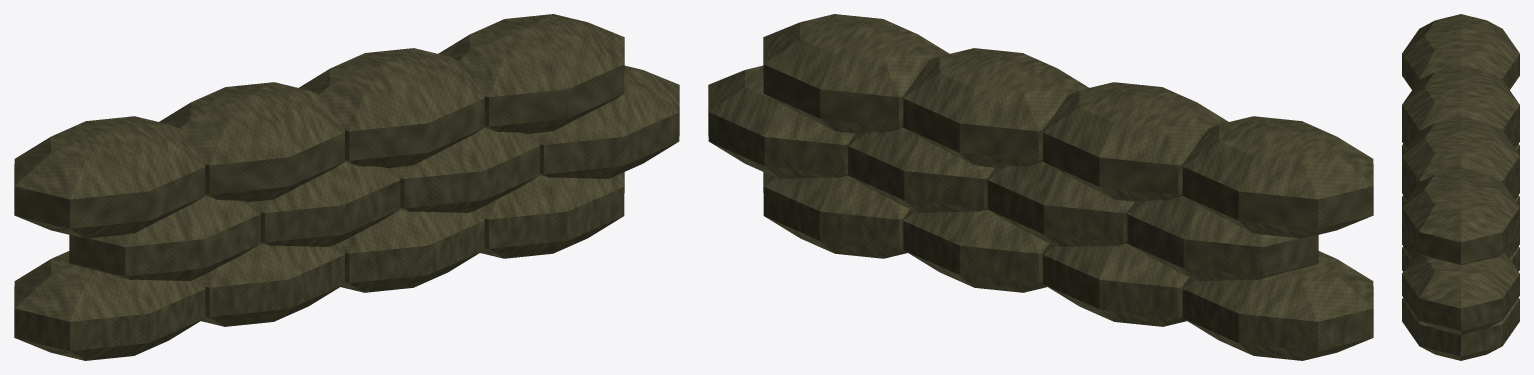
Rendered from Sandbag_Barrier.glb.
The picture shows the model from 3 angles, left to right: view 1: azimuth 30°, elevation 25°; view 2: azimuth 150°, elevation 25°; view 3: azimuth 270°, elevation 25°; orthographic projection. The views are drawn at different scales.
Visible parts, largest first — view 1: Sandbag_Barrier; view 2: Sandbag_Barrier; view 3: Sandbag_Barrier.
Boxes of the visible parts, x1,y1,x2,y2 form: Sandbag_Barrier: (14,14,679,360); Sandbag_Barrier: (708,14,1373,360); Sandbag_Barrier: (1402,14,1519,360).
Bounding box in the file's own units: 2.05 × 0.64 × 0.4185.
Materials: 1 (1 with a texture image).
